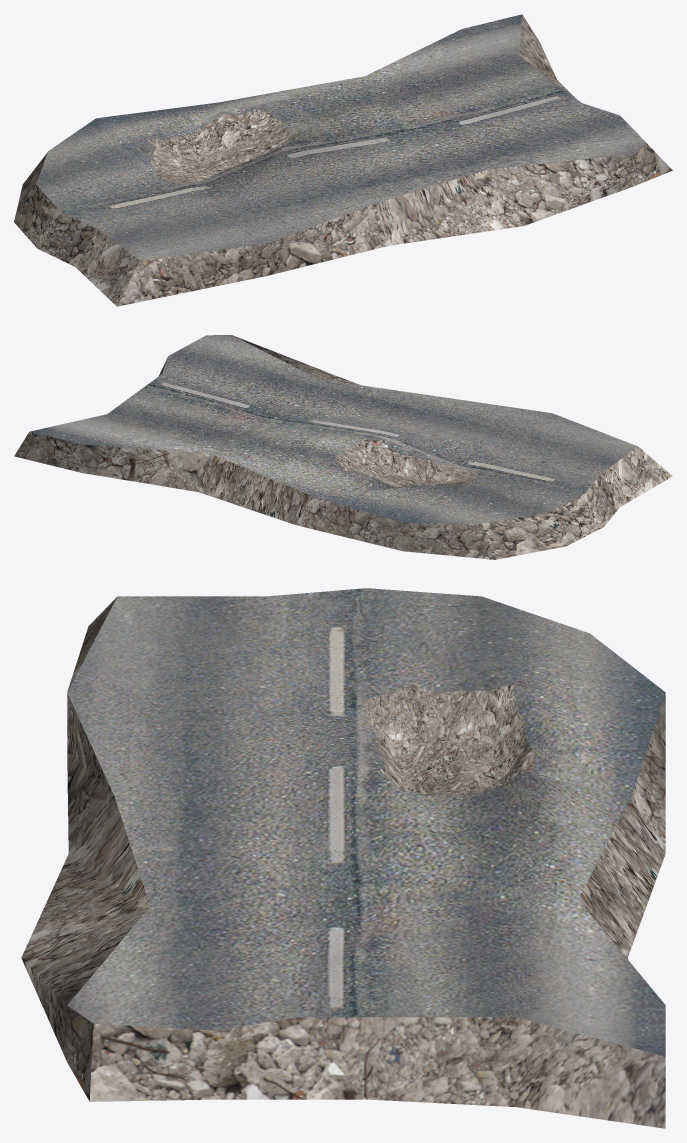
Rendered from ConChunk2.FBX.
The picture shows the model from 3 angles, top to bottom: view 1: azimuth 30°, elevation 25°; view 2: azimuth 150°, elevation 25°; view 3: azimuth 270°, elevation 25°; orthographic projection. The views are drawn at different scales.
Visible parts, largest first — view 1: Object001; view 2: Object001; view 3: Object001.
Part boxes in pixels (x1,y1,x2,y2): Object001: (14,14,672,306); Object001: (14,335,672,559); Object001: (21,588,665,1128).
Size of the model in its own units: 4.95 by 0.3501 by 2.68.
3 materials, 3 textured.
